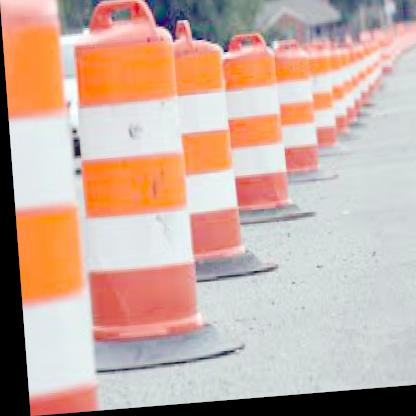obstacle: (70, 0, 201, 349), (216, 33, 296, 227)
